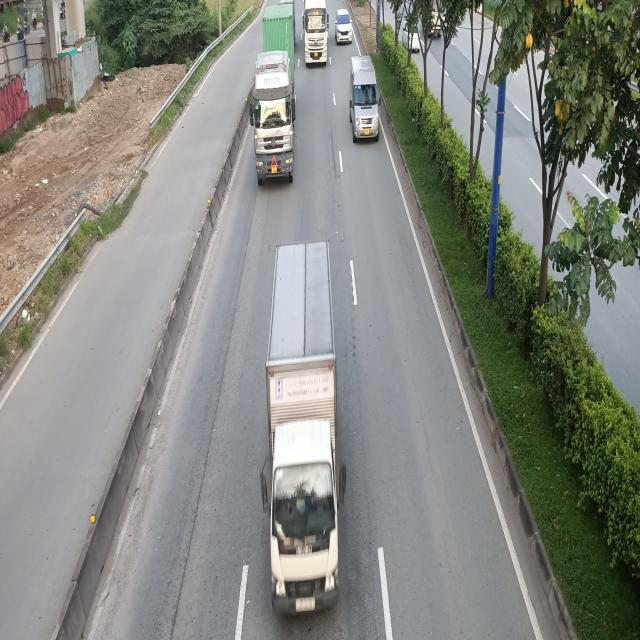car: (336, 10, 353, 46)
container: (250, 6, 298, 182), (302, 1, 327, 67)
truck: (261, 242, 349, 614)
van: (349, 54, 382, 142)
